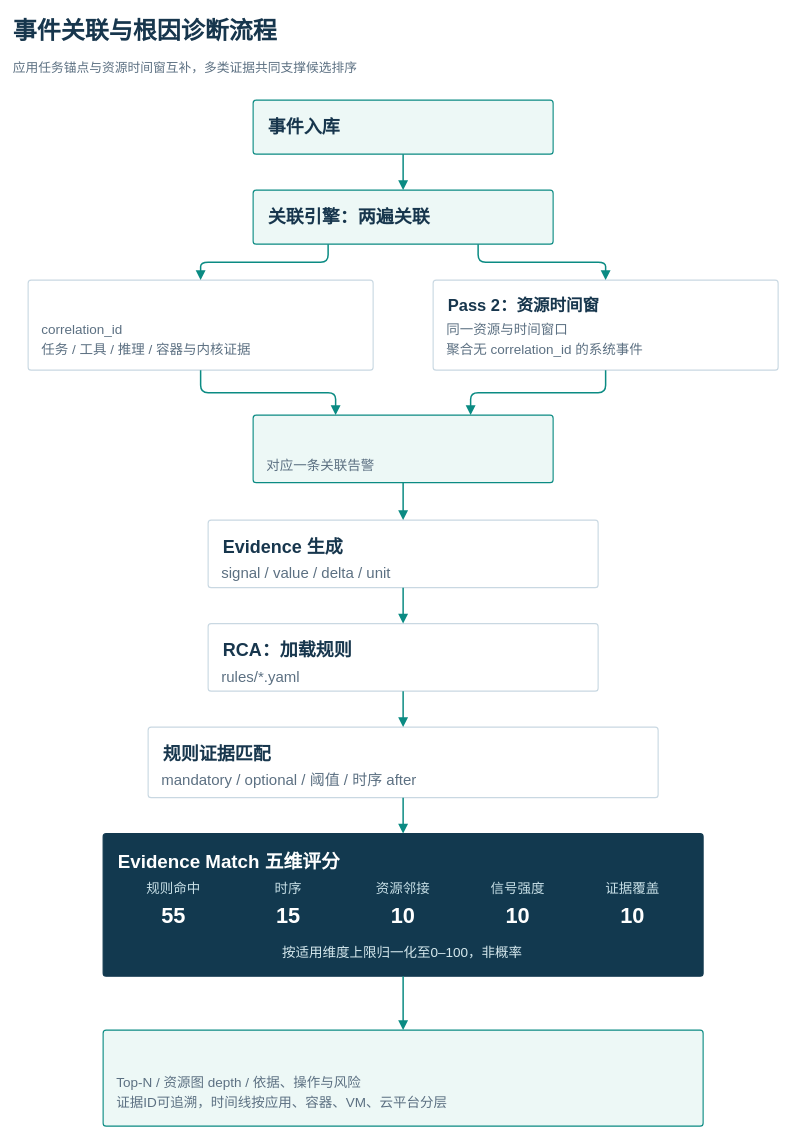
Image size: 806x1139. Some labels were removed from this diagram. Each missing label, with the box of its shape:
Pass 1：任务锚点: (27, 279, 373, 370)
关联簇 Cluster: (252, 414, 553, 483)
输出根因候选、影响范围与处置建议: (102, 1029, 703, 1126)
